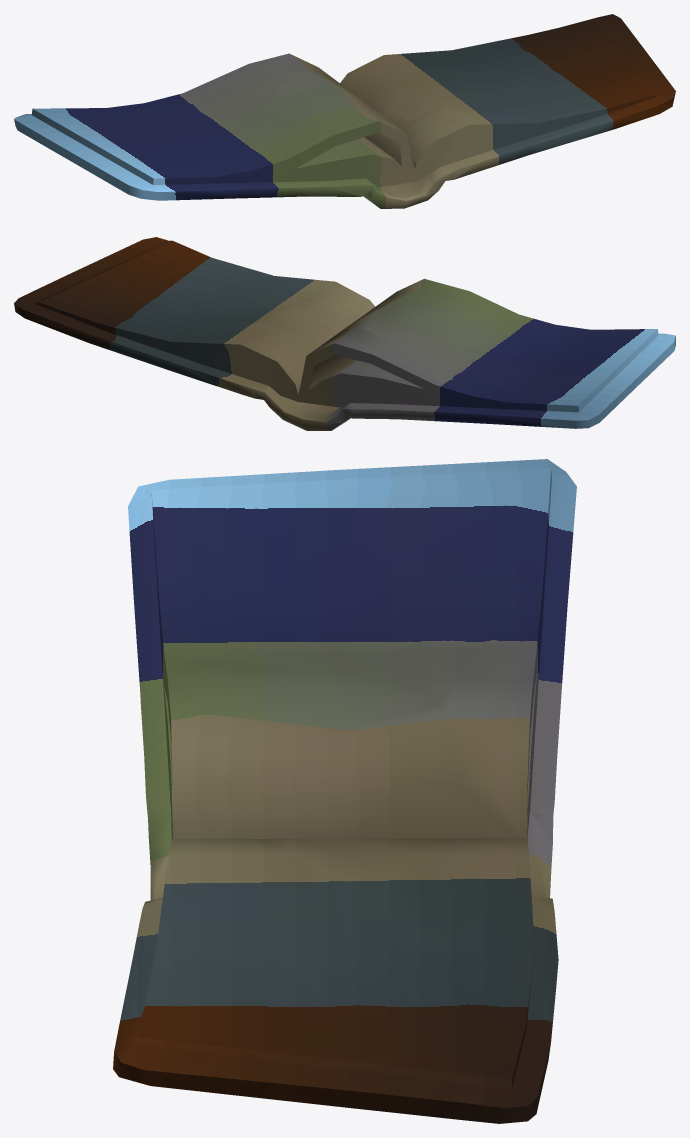
File: Prop_SkyArtBookBlueNE_Open.glb
3 views of the same model, one above another, from view 1: azimuth 30°, elevation 25°; view 2: azimuth 150°, elevation 25°; view 3: azimuth 270°, elevation 25° (orthographic). The views are drawn at different scales.
Parts seen in each view (by area): view 1: Prop_SkyArtBookBlueNE_Open; view 2: Prop_SkyArtBookBlueNE_Open; view 3: Prop_SkyArtBookBlueNE_Open.
Part boxes in pixels (<box>): Prop_SkyArtBookBlueNE_Open: <box>14,14,675,208</box>; Prop_SkyArtBookBlueNE_Open: <box>14,237,675,430</box>; Prop_SkyArtBookBlueNE_Open: <box>113,459,576,1123</box>.
Size of the model in its own units: 8.64 by 1.3 by 2.93.
Materials: 1 (1 with a texture image).
